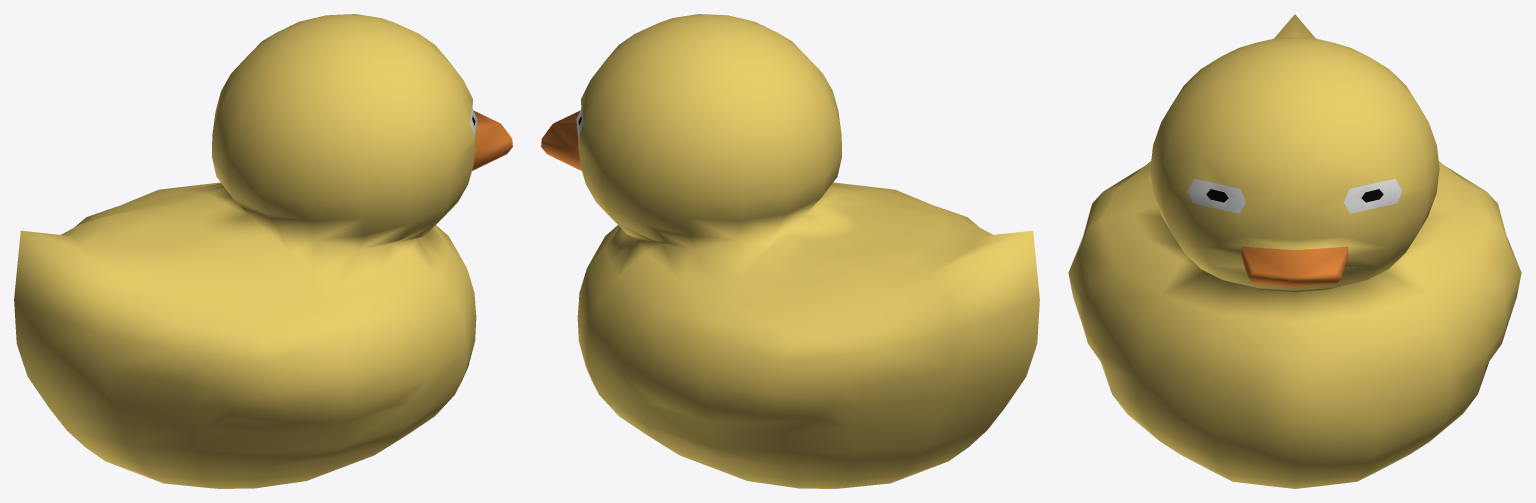
File: rubberduck.fbx
3 renders of one model, left to right at view 1: azimuth 30°, elevation 25°; view 2: azimuth 150°, elevation 25°; view 3: azimuth 270°, elevation 25°, orthographic. The views are drawn at different scales.
Parts seen in each view (by area): view 1: Sphere.001; view 2: Sphere.001; view 3: Sphere.001.
Boxes of the visible parts, x1,y1,x2,y2 form: Sphere.001: (14, 14, 512, 488); Sphere.001: (541, 14, 1039, 488); Sphere.001: (1068, 14, 1521, 488).
Bounding box in the file's own units: 195 × 211 × 261.
